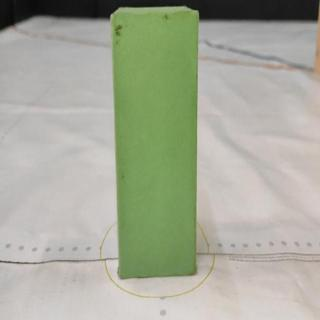greenbox: (110, 5, 200, 280)
